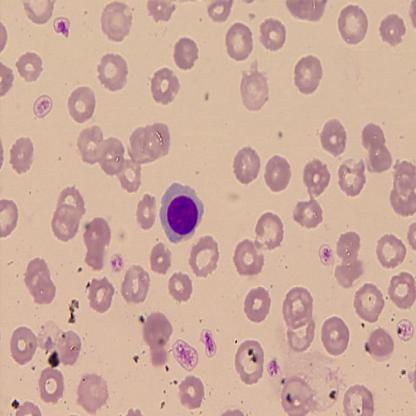NRC: (159, 180, 205, 244)
